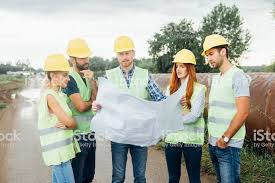helmet: (45, 54, 68, 72), (69, 40, 91, 58), (204, 35, 231, 48), (172, 50, 195, 65), (115, 36, 135, 51)
vest: (106, 70, 151, 128), (211, 71, 246, 139), (40, 92, 75, 158), (171, 82, 205, 143), (73, 71, 98, 131)
